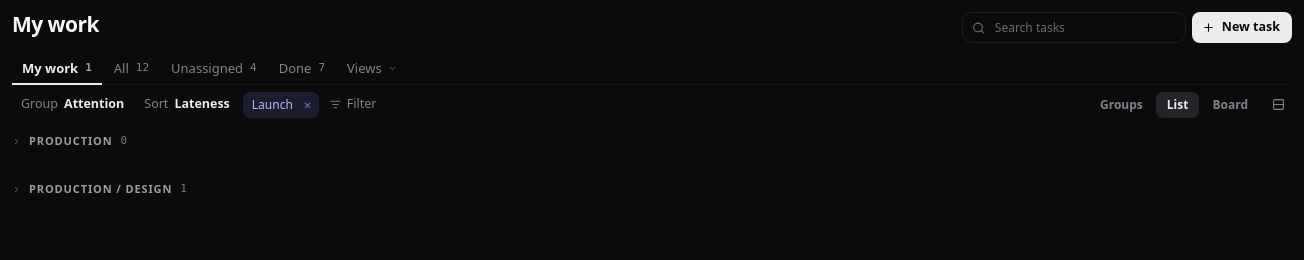
Test case: Triage grouping › shows descendant folder sections collapsed and expands their tasks
Check: the text "Nested design task" is not shown
Click the button "Production / Design 1" at (99, 189), box 12,178 -> 187,201
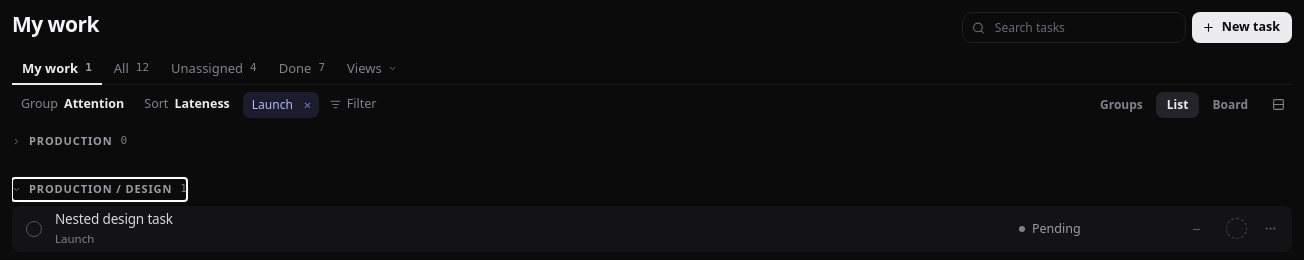
Check: the text "Nested design task" is shown, box 55,210 -> 173,228
